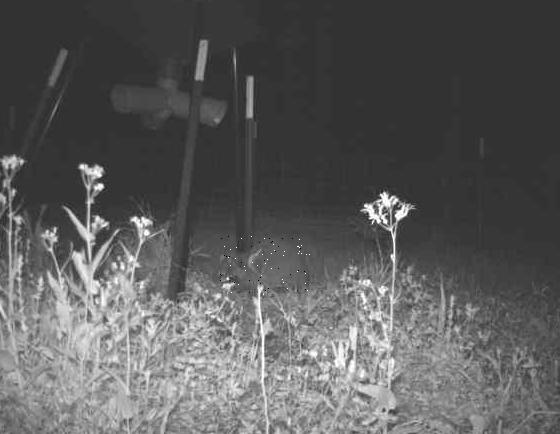Raccoon: (217, 237, 310, 296)
